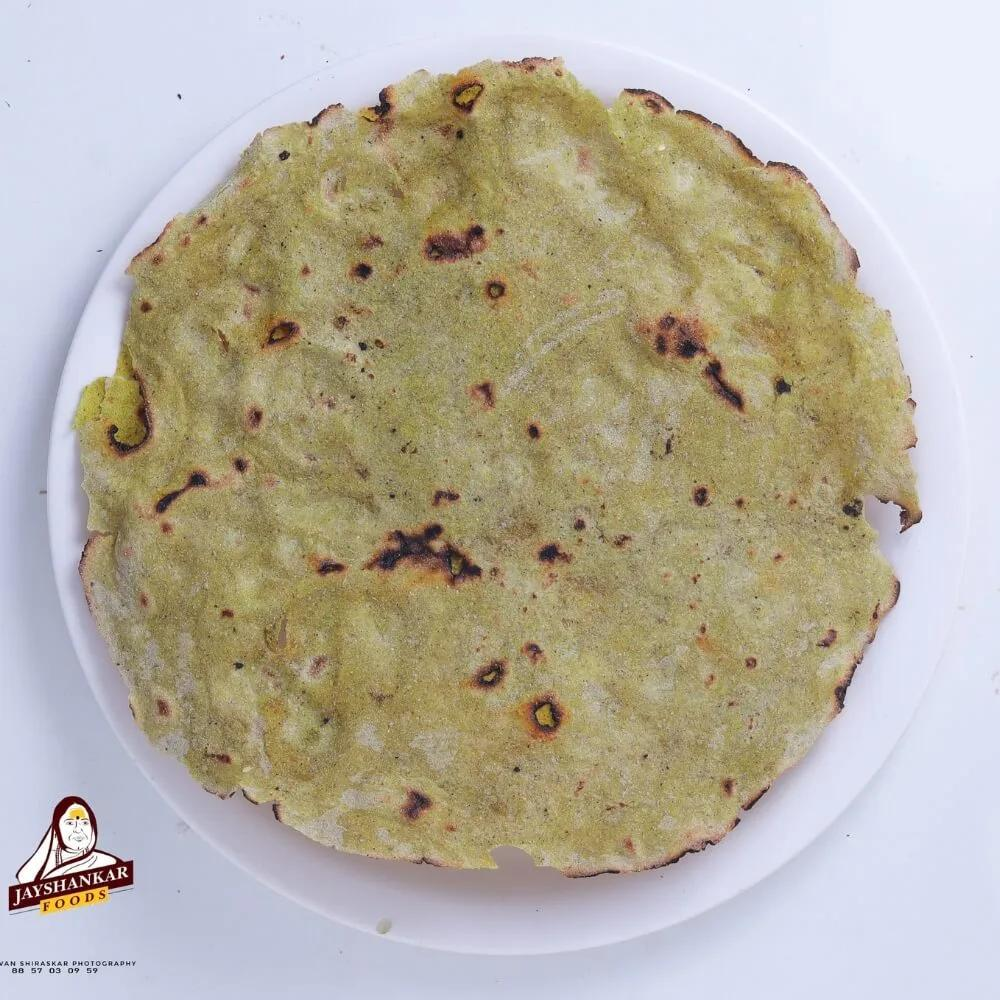bhakri: (43, 51, 965, 890)
